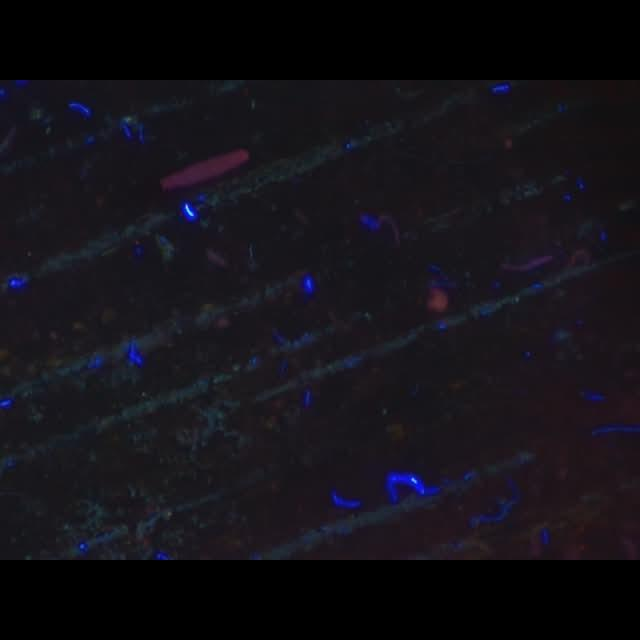Fragment: (164, 149, 250, 189)
